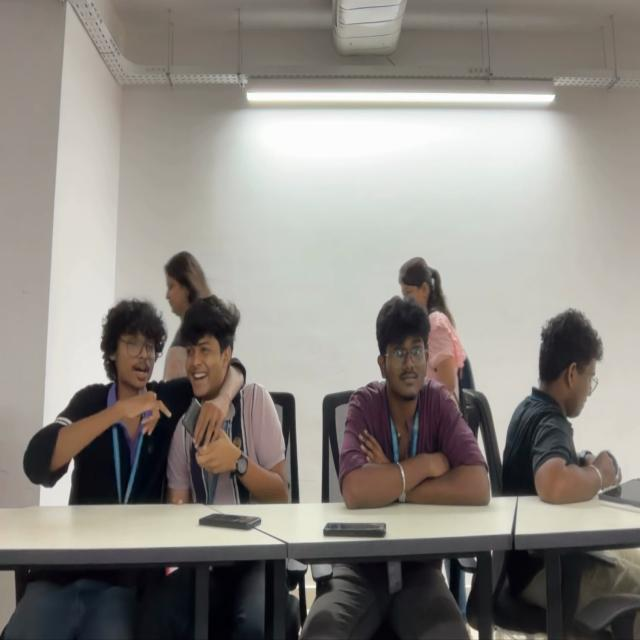Isolated: (339, 300, 492, 500), (508, 306, 622, 490)
socializing: (20, 248, 291, 496)
